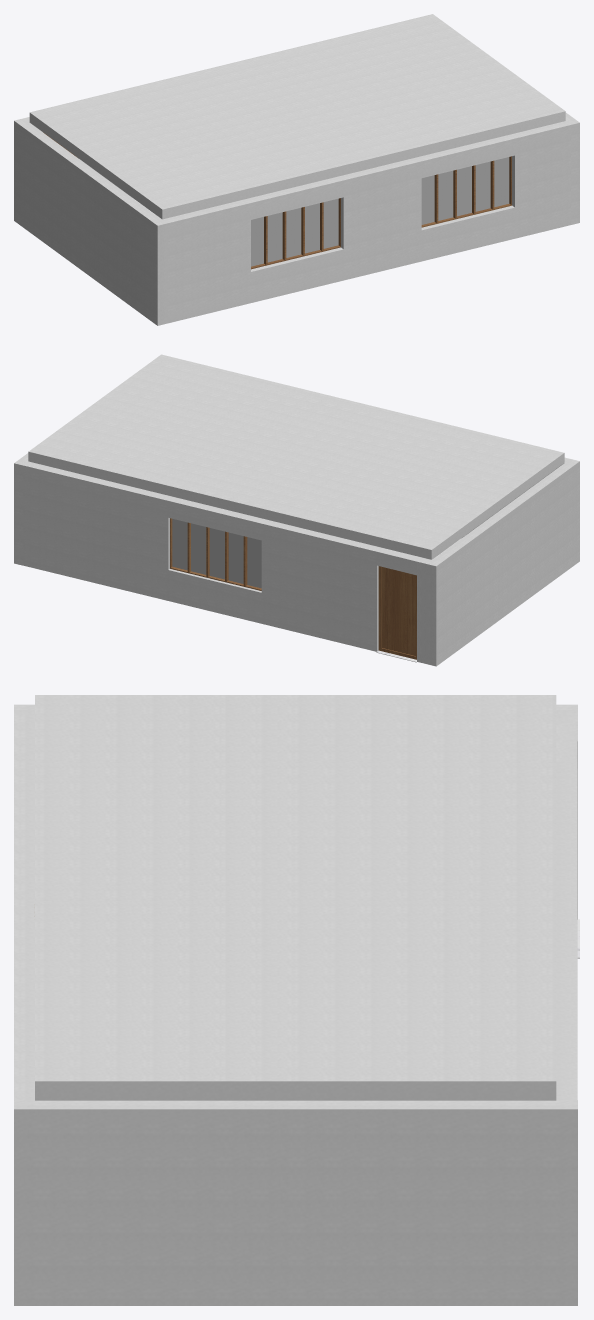
The model's file is room.glb.
3 views of the same model, one above another, from view 1: azimuth 30°, elevation 25°; view 2: azimuth 150°, elevation 25°; view 3: azimuth 270°, elevation 25° (orthographic). The views are drawn at different scales.
Visible parts, largest first — view 1: wall9, wall7, wall4, window2, window1, wall8; view 2: wall9, wall5, wall4, window, door, wall8, wall3, wall2; view 3: wall9, wall8, wall7, wall5, wall2.
Boxes of the visible parts, bbox=[...] form: wall9: bbox=[29, 14, 565, 219]; wall7: bbox=[162, 121, 570, 323]; wall4: bbox=[14, 118, 167, 325]; window2: bbox=[421, 156, 511, 227]; window1: bbox=[251, 198, 340, 269]; wall8: bbox=[565, 112, 579, 224]; wall9: bbox=[28, 354, 564, 559]; wall5: bbox=[23, 461, 381, 651]; wall4: bbox=[426, 459, 579, 666]; window: bbox=[170, 518, 261, 590]; door: bbox=[378, 566, 416, 659]; wall8: bbox=[14, 453, 28, 565]; wall3: bbox=[417, 557, 431, 663]; wall2: bbox=[377, 548, 421, 575]; wall9: bbox=[35, 695, 556, 1100]; wall8: bbox=[14, 1100, 577, 1305]; wall7: bbox=[14, 713, 34, 1100]; wall5: bbox=[556, 761, 577, 1099]; wall2: bbox=[556, 723, 577, 768].
Size of the model in its own units: 13.02 by 3.25 by 7.69.
20 materials, 14 textured.
